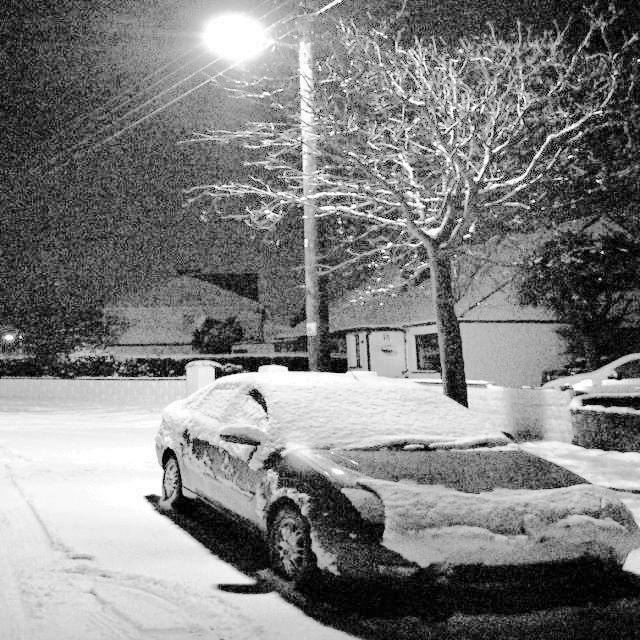Car: (122, 349, 627, 618), (500, 345, 640, 404)
